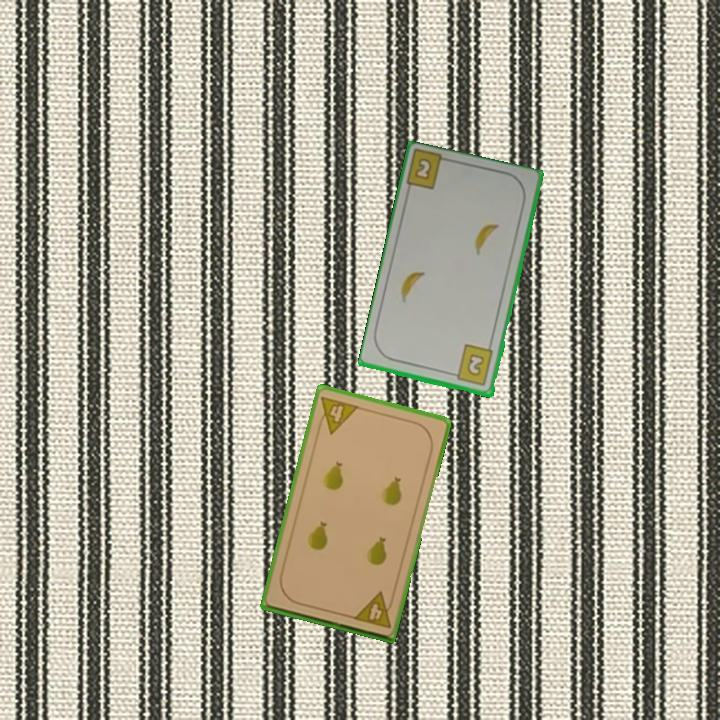2b: (448, 342, 496, 389), (411, 154, 435, 183)
4p: (313, 392, 362, 437), (349, 588, 397, 631)
